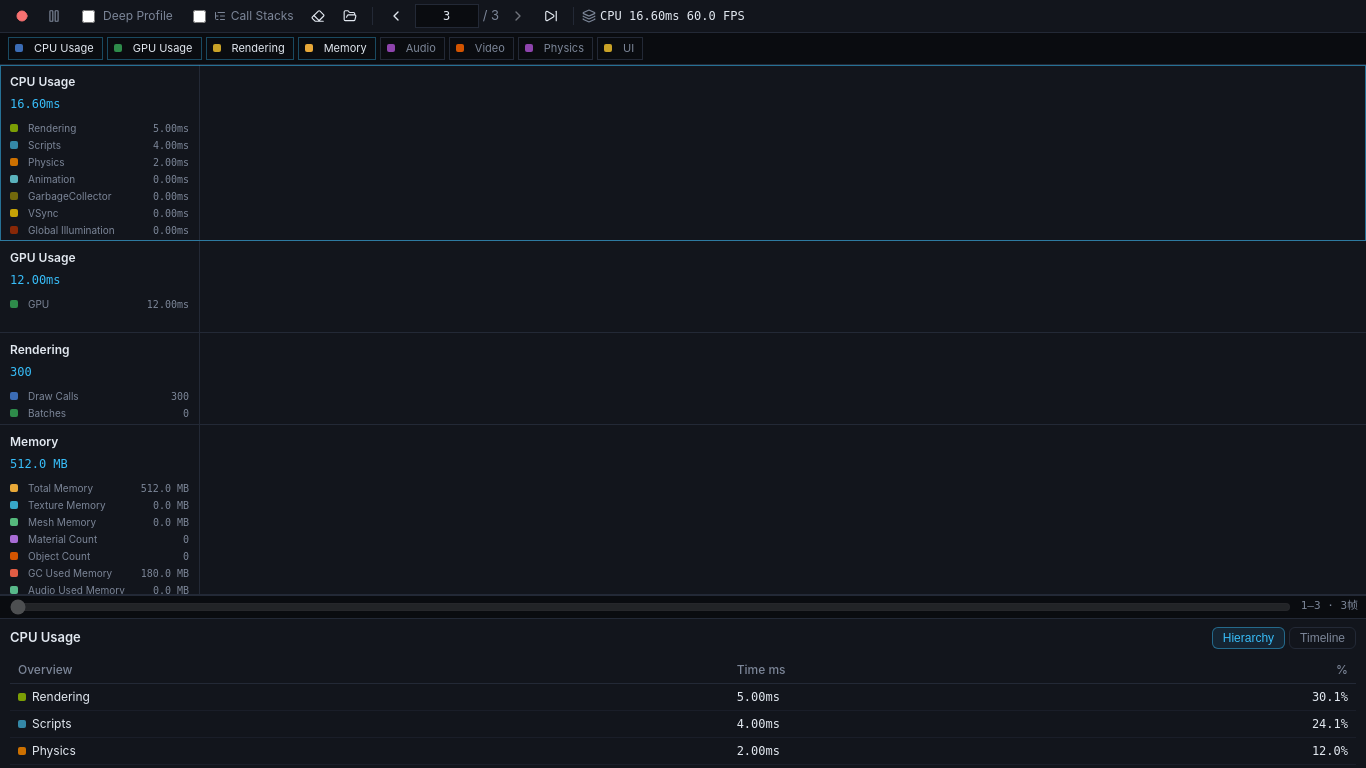
Test: ProfilerView › 可开关 Profiler 模块
The image size is (1366, 768).
Click the checkbox labelled "Audio": (412, 48) [380,37,445,60]
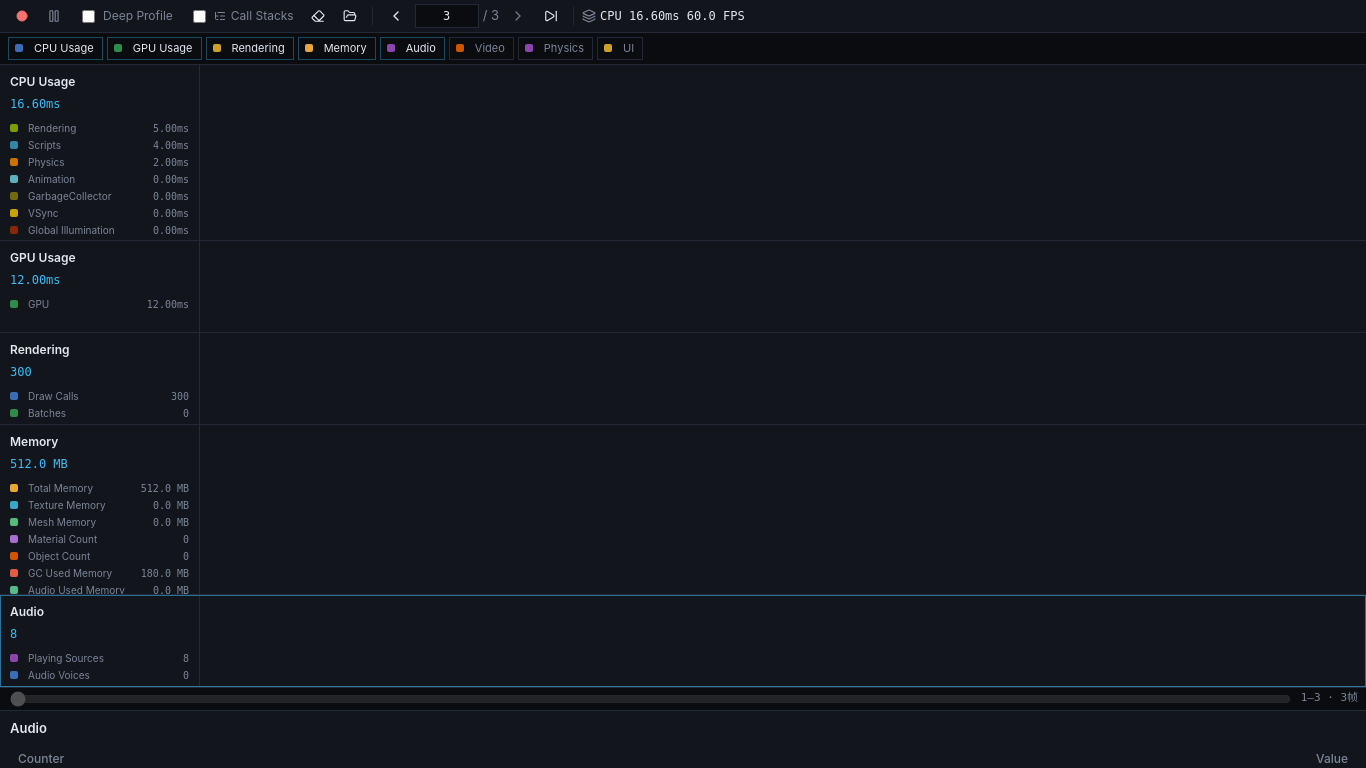
Result: the element with test id "profiler-chart-audio" is shown at [0,594,1365,686]
Click the checkbox labelled "CPU Usage": (55, 48) [8,37,103,60]
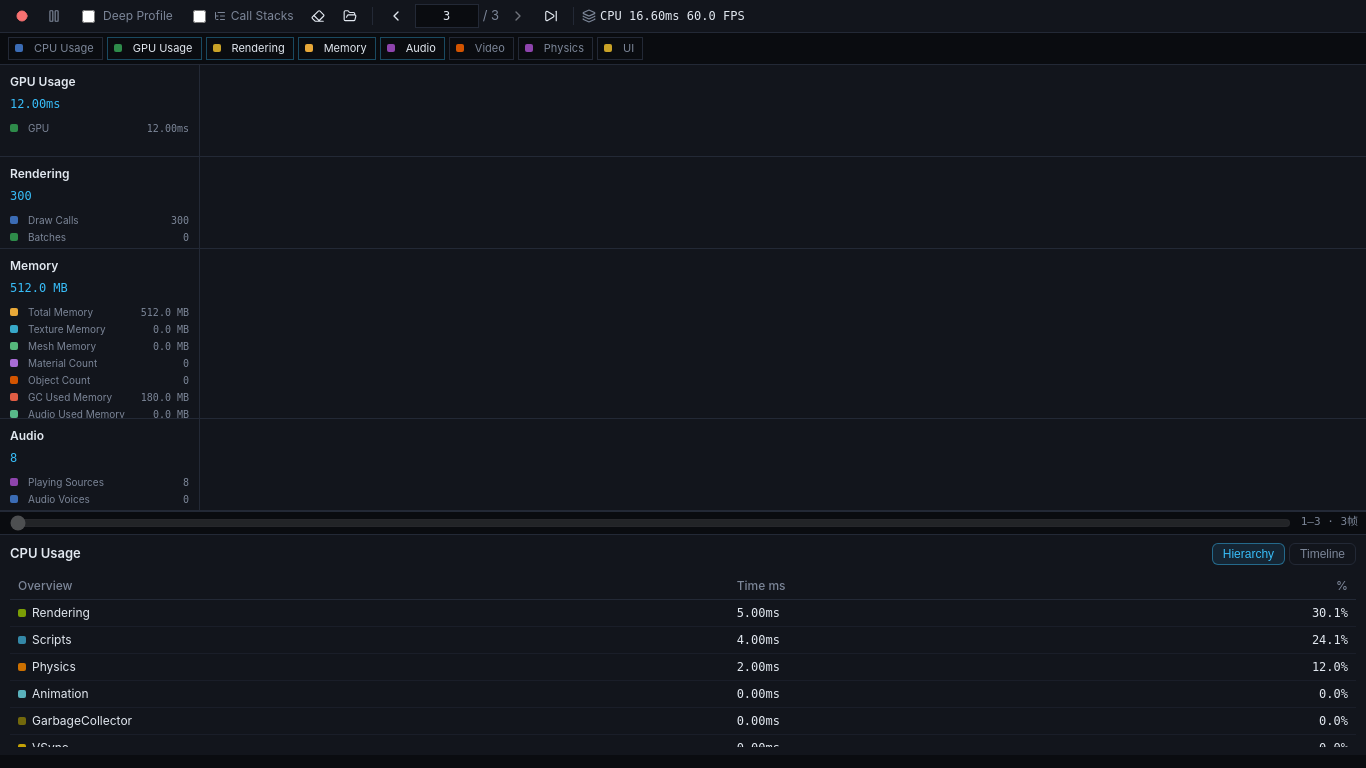
Result: the element with test id "profiler-chart-cpu" is gone
